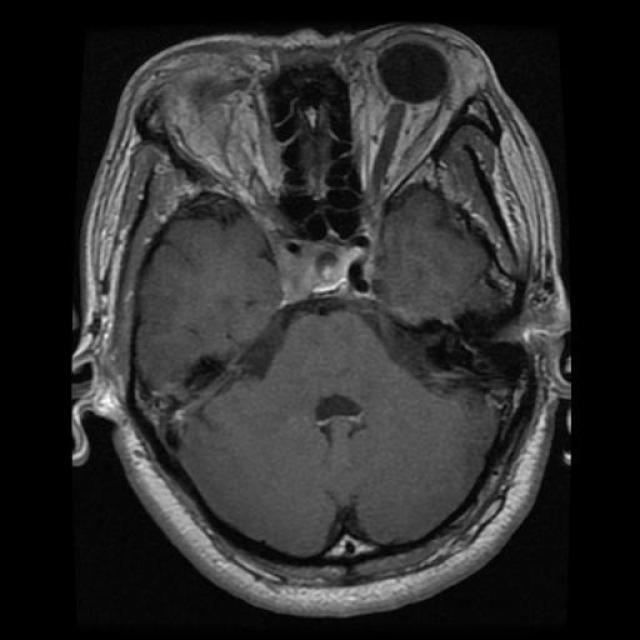pituitary: (262, 231, 388, 326)
